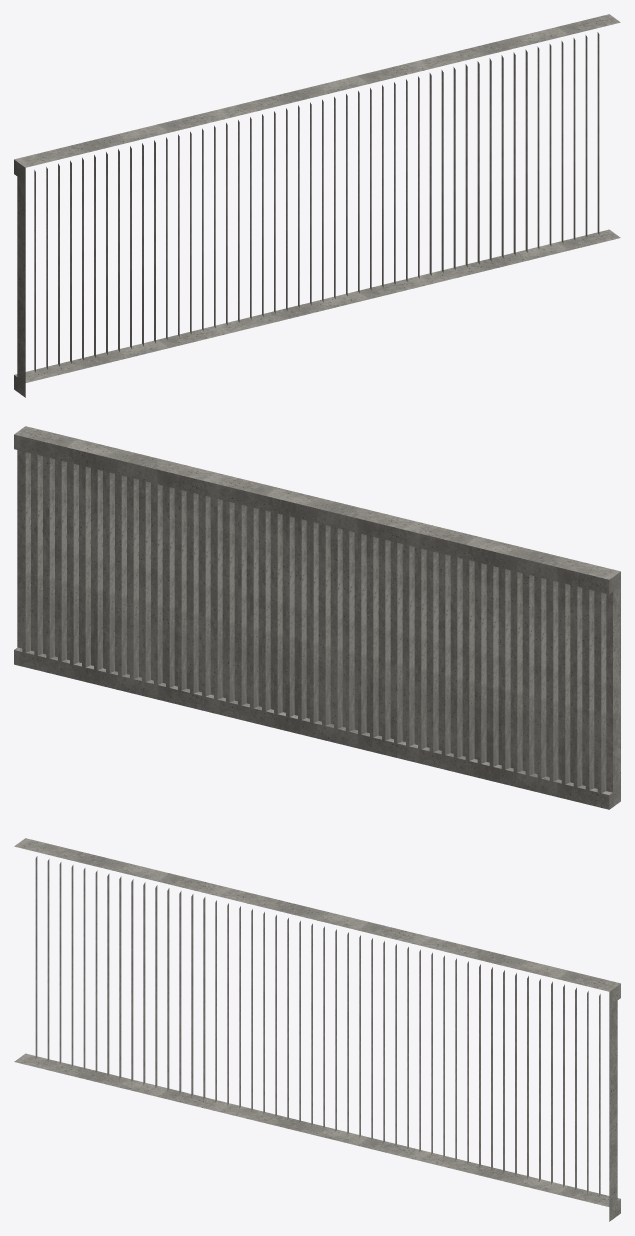
The model's file is loggia_platte_riffel.glb.
3 renders of one model, top to bottom at view 1: azimuth 30°, elevation 25°; view 2: azimuth 150°, elevation 25°; view 3: azimuth 330°, elevation 25°, orthographic.
Visible parts, largest first — view 1: loggia_platte_riffel; view 2: loggia_platte_riffel; view 3: loggia_platte_riffel.
Boxes of the visible parts, bbox=[...] form: loggia_platte_riffel: bbox=[14, 14, 620, 397]; loggia_platte_riffel: bbox=[14, 426, 620, 809]; loggia_platte_riffel: bbox=[14, 838, 620, 1221].
Bounding box in the file's own units: 2.98 × 1.1 × 0.1.
Materials: 1 (1 with a texture image).
